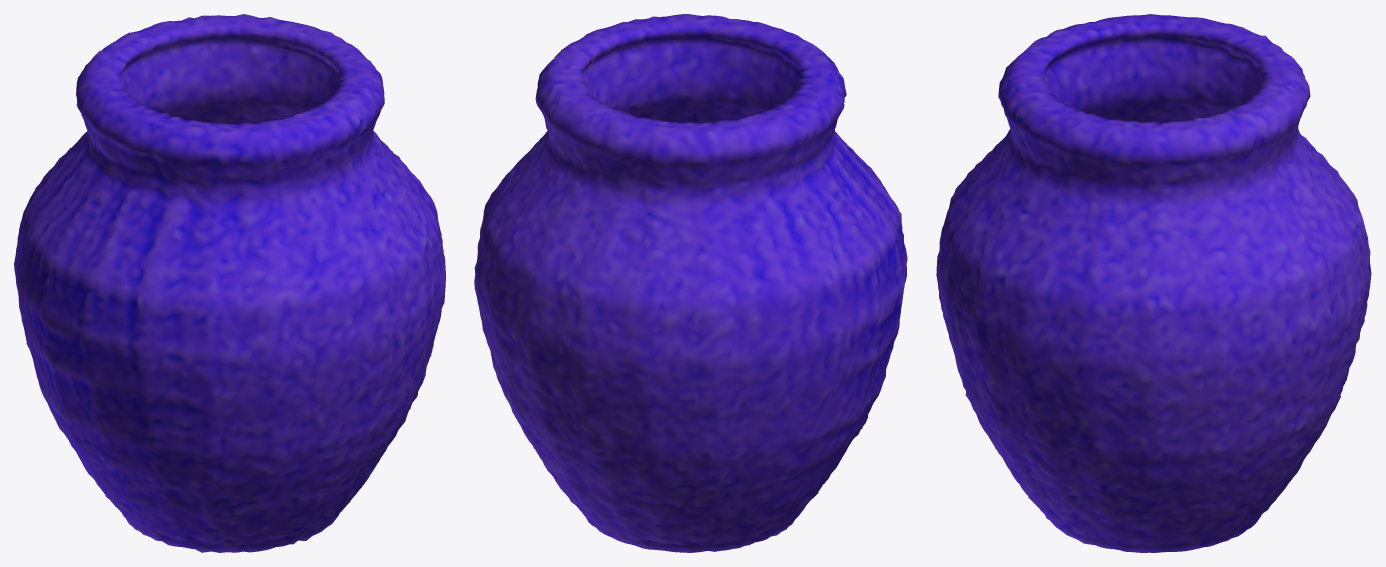
The model's file is vase_300_iters.obj.
The picture shows the model from 3 angles, left to right: view 1: azimuth 30°, elevation 25°; view 2: azimuth 150°, elevation 25°; view 3: azimuth 270°, elevation 25°; orthographic projection.
Size of the model in its own units: 1.59 by 1.76 by 1.59.
